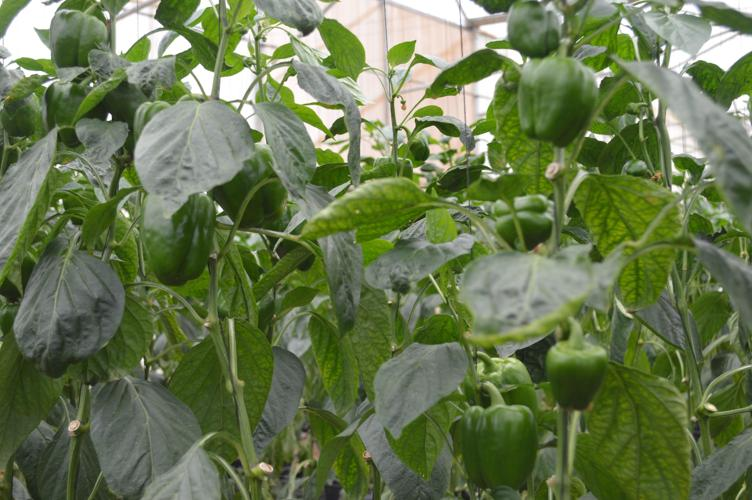BellPepper: (130, 194, 213, 282), (513, 60, 598, 140), (454, 407, 538, 487), (206, 149, 277, 219), (544, 345, 610, 412), (45, 10, 101, 66), (43, 82, 94, 140), (501, 6, 561, 51), (479, 357, 537, 402), (3, 90, 41, 141)
